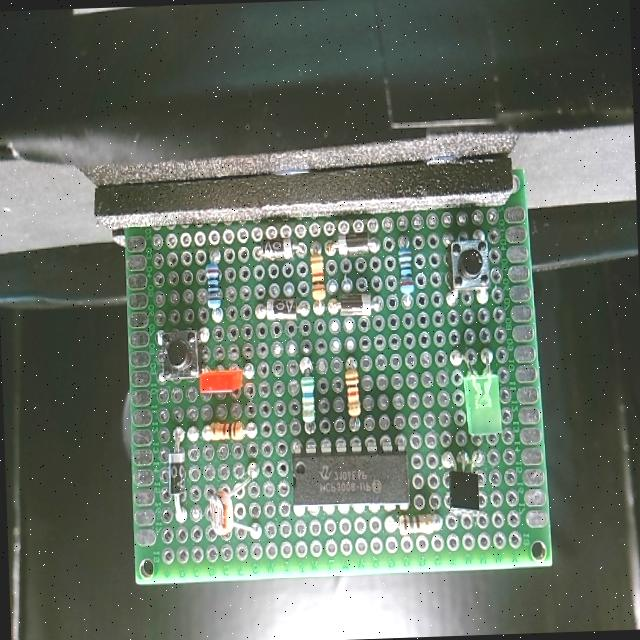IC: (288, 444, 412, 510)
cds: (206, 480, 238, 538)
diode: (165, 446, 187, 499), (259, 294, 301, 321), (336, 290, 376, 318), (334, 230, 372, 257), (262, 234, 296, 258)
led: (464, 368, 504, 439), (196, 362, 248, 396)
resistor: (298, 370, 318, 426), (342, 368, 363, 419), (397, 509, 438, 535), (202, 260, 222, 310), (203, 420, 248, 442), (397, 242, 415, 296), (308, 253, 328, 301)
switch: (442, 236, 492, 293), (160, 325, 202, 381)
transistor: (445, 464, 482, 516)
